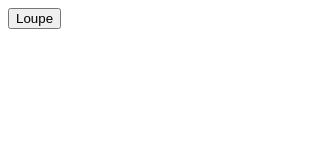
Test case: the Library Loupe button › turns the loupe on and off, and shows which
The image size is (320, 160).
Later steps or results of the test are not shown.
Click the button with aria-label "Toggle magnifier loupe".
click(35, 18)  # box x1=8 y1=8 x2=61 y2=29
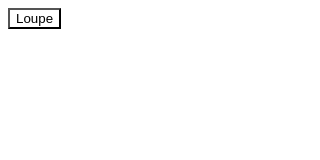
Check: the button with aria-label "Toggle magnifier loupe" is pressed, box x1=8 y1=8 x2=61 y2=29
